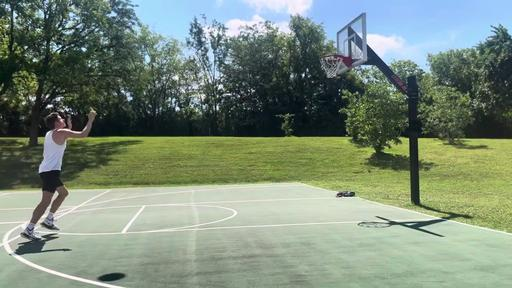human: (20, 106, 97, 242)
rim: (318, 55, 344, 79)
